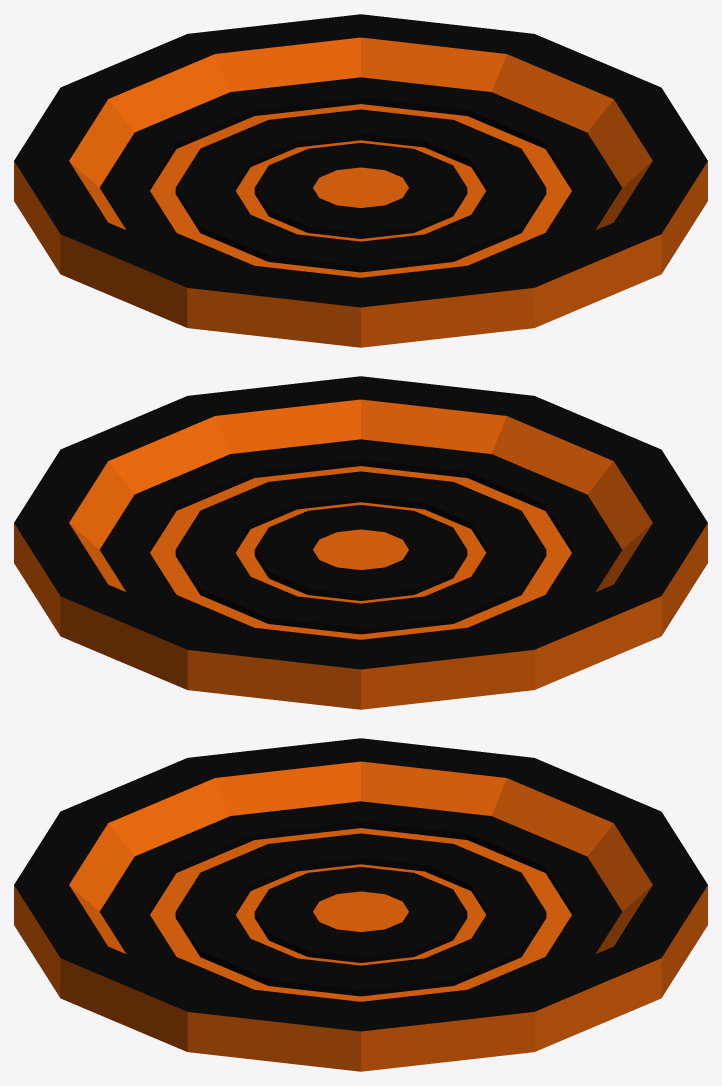
Rendered from landing_pad2-hNo3tVg7.glb.
The picture shows the model from 3 angles, top to bottom: view 1: azimuth 30°, elevation 25°; view 2: azimuth 150°, elevation 25°; view 3: azimuth 270°, elevation 25°; orthographic projection.
Visible parts, largest first — view 1: Cube; view 2: Cube; view 3: Cube.
Boxes of the visible parts, left/top/right/bottom form: Cube: left=14, top=14, right=707, bottom=347; Cube: left=14, top=376, right=707, bottom=709; Cube: left=14, top=738, right=707, bottom=1071.
Size of the model in its own units: 2 by 0.128 by 2.
